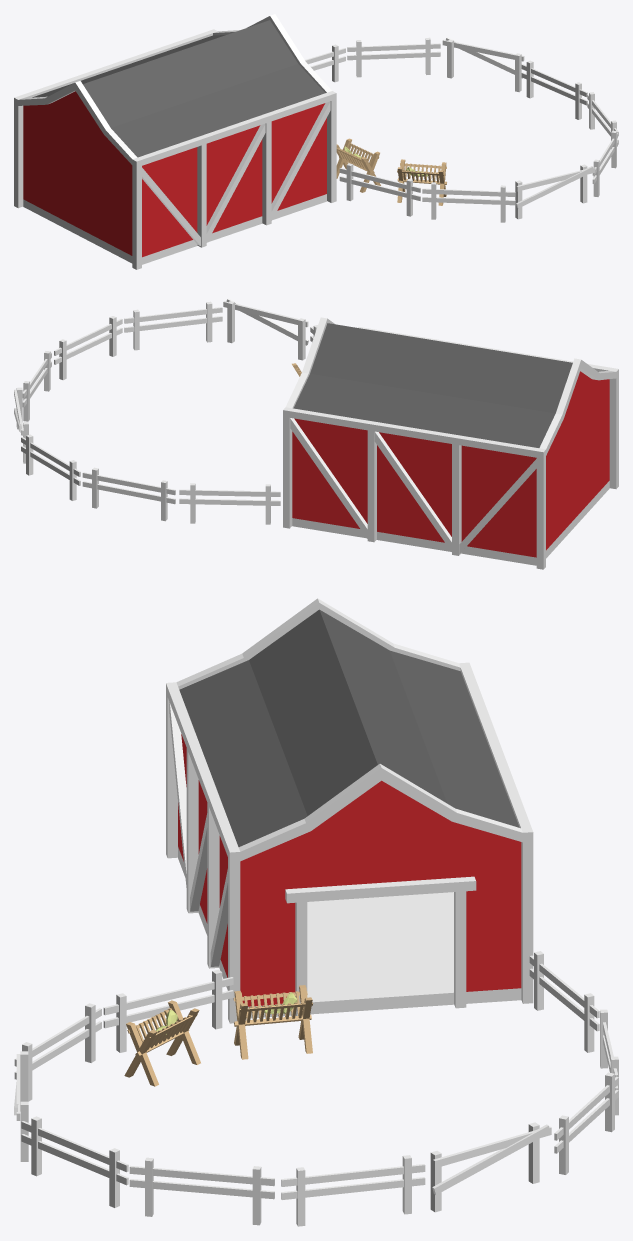
Rendered from low+poly+farm2.glb.
3 views of the same model, one above another, from view 1: azimuth 30°, elevation 25°; view 2: azimuth 150°, elevation 25°; view 3: azimuth 270°, elevation 25° (orthographic). The views are drawn at different scales.
Parts seen in each view (by area): view 1: Cube.001, Cube.336, Cube.000, Cube.003, Cube.010, Cube.005, Cube.011, Cube.009, Cube.012, Cube.006, futterkrippe, futterkrippe.001 (+3 smaller); view 2: Cube.001, Cube.336, Cube.000, Cube.003, Cube.008, Cube.002, Cube.004, Cube.011, Cube.007, Cube.005, Cube.006, Cube.012; view 3: Cube.336, Cube.001, Cube.000, Cube.003, Cube.006, Cube.007, Cube.012, Cube.009, Cube.008, futterkrippe.001, futterkrippe, Cube.002 (+4 smaller).
Part boxes in pixels (x1,y1,x2,y2): Cube.001: (23, 91, 326, 257); Cube.336: (32, 20, 324, 157); Cube.000: (14, 14, 336, 269); Cube.003: (23, 194, 326, 264); Cube.010: (422, 182, 515, 222); Cube.005: (347, 37, 440, 77); Cube.011: (515, 164, 595, 219); Cube.009: (339, 163, 420, 216); Cube.012: (442, 37, 524, 92); Cube.006: (521, 60, 587, 119); futterkrippe: (397, 159, 446, 205); futterkrippe.001: (336, 138, 380, 192); Cube.001: (292, 371, 609, 557); Cube.336: (293, 323, 598, 447); Cube.000: (283, 317, 618, 569); Cube.003: (292, 481, 609, 565); Cube.008: (124, 301, 222, 350); Cube.002: (179, 483, 280, 524); Cube.004: (82, 467, 175, 521); Cube.011: (223, 298, 308, 360); Cube.007: (54, 316, 122, 380); Cube.005: (21, 434, 80, 500); Cube.006: (22, 351, 51, 421); Cube.012: (14, 387, 28, 463); Cube.336: (179, 609, 519, 846); Cube.001: (178, 734, 521, 1006); Cube.000: (166, 598, 533, 1023); Cube.003: (178, 847, 521, 1018); Cube.006: (281, 1155, 425, 1226); Cube.007: (129, 1157, 274, 1225); Cube.012: (430, 1122, 551, 1212); Cube.009: (103, 969, 233, 1052); Cube.008: (21, 1116, 128, 1207); futterkrippe.001: (233, 985, 312, 1059); futterkrippe: (124, 1000, 200, 1086); Cube.002: (529, 951, 599, 1052).
Size of the model in its own units: 14.22 by 4.12 by 9.17.
